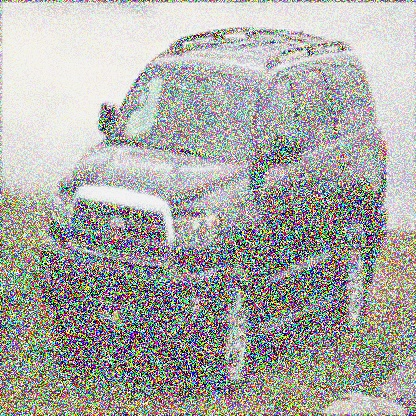Vehicle: (40, 21, 393, 390)
